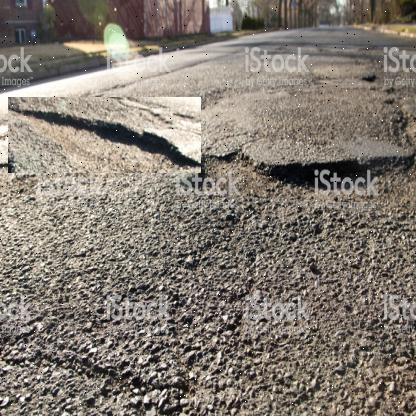pothole: (8, 97, 202, 174), (258, 139, 410, 218)
